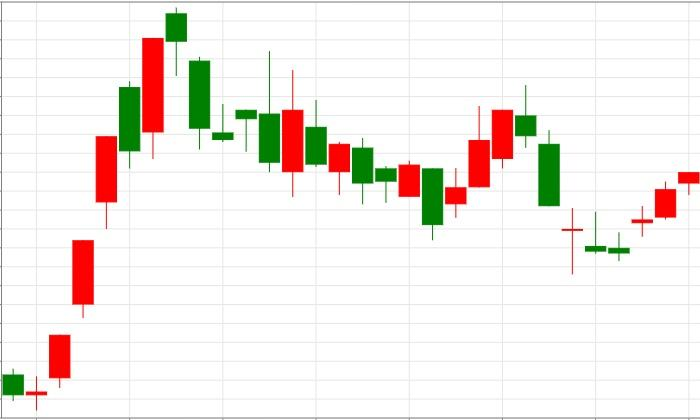three_black_crows_fall: (26, 8, 234, 410)
